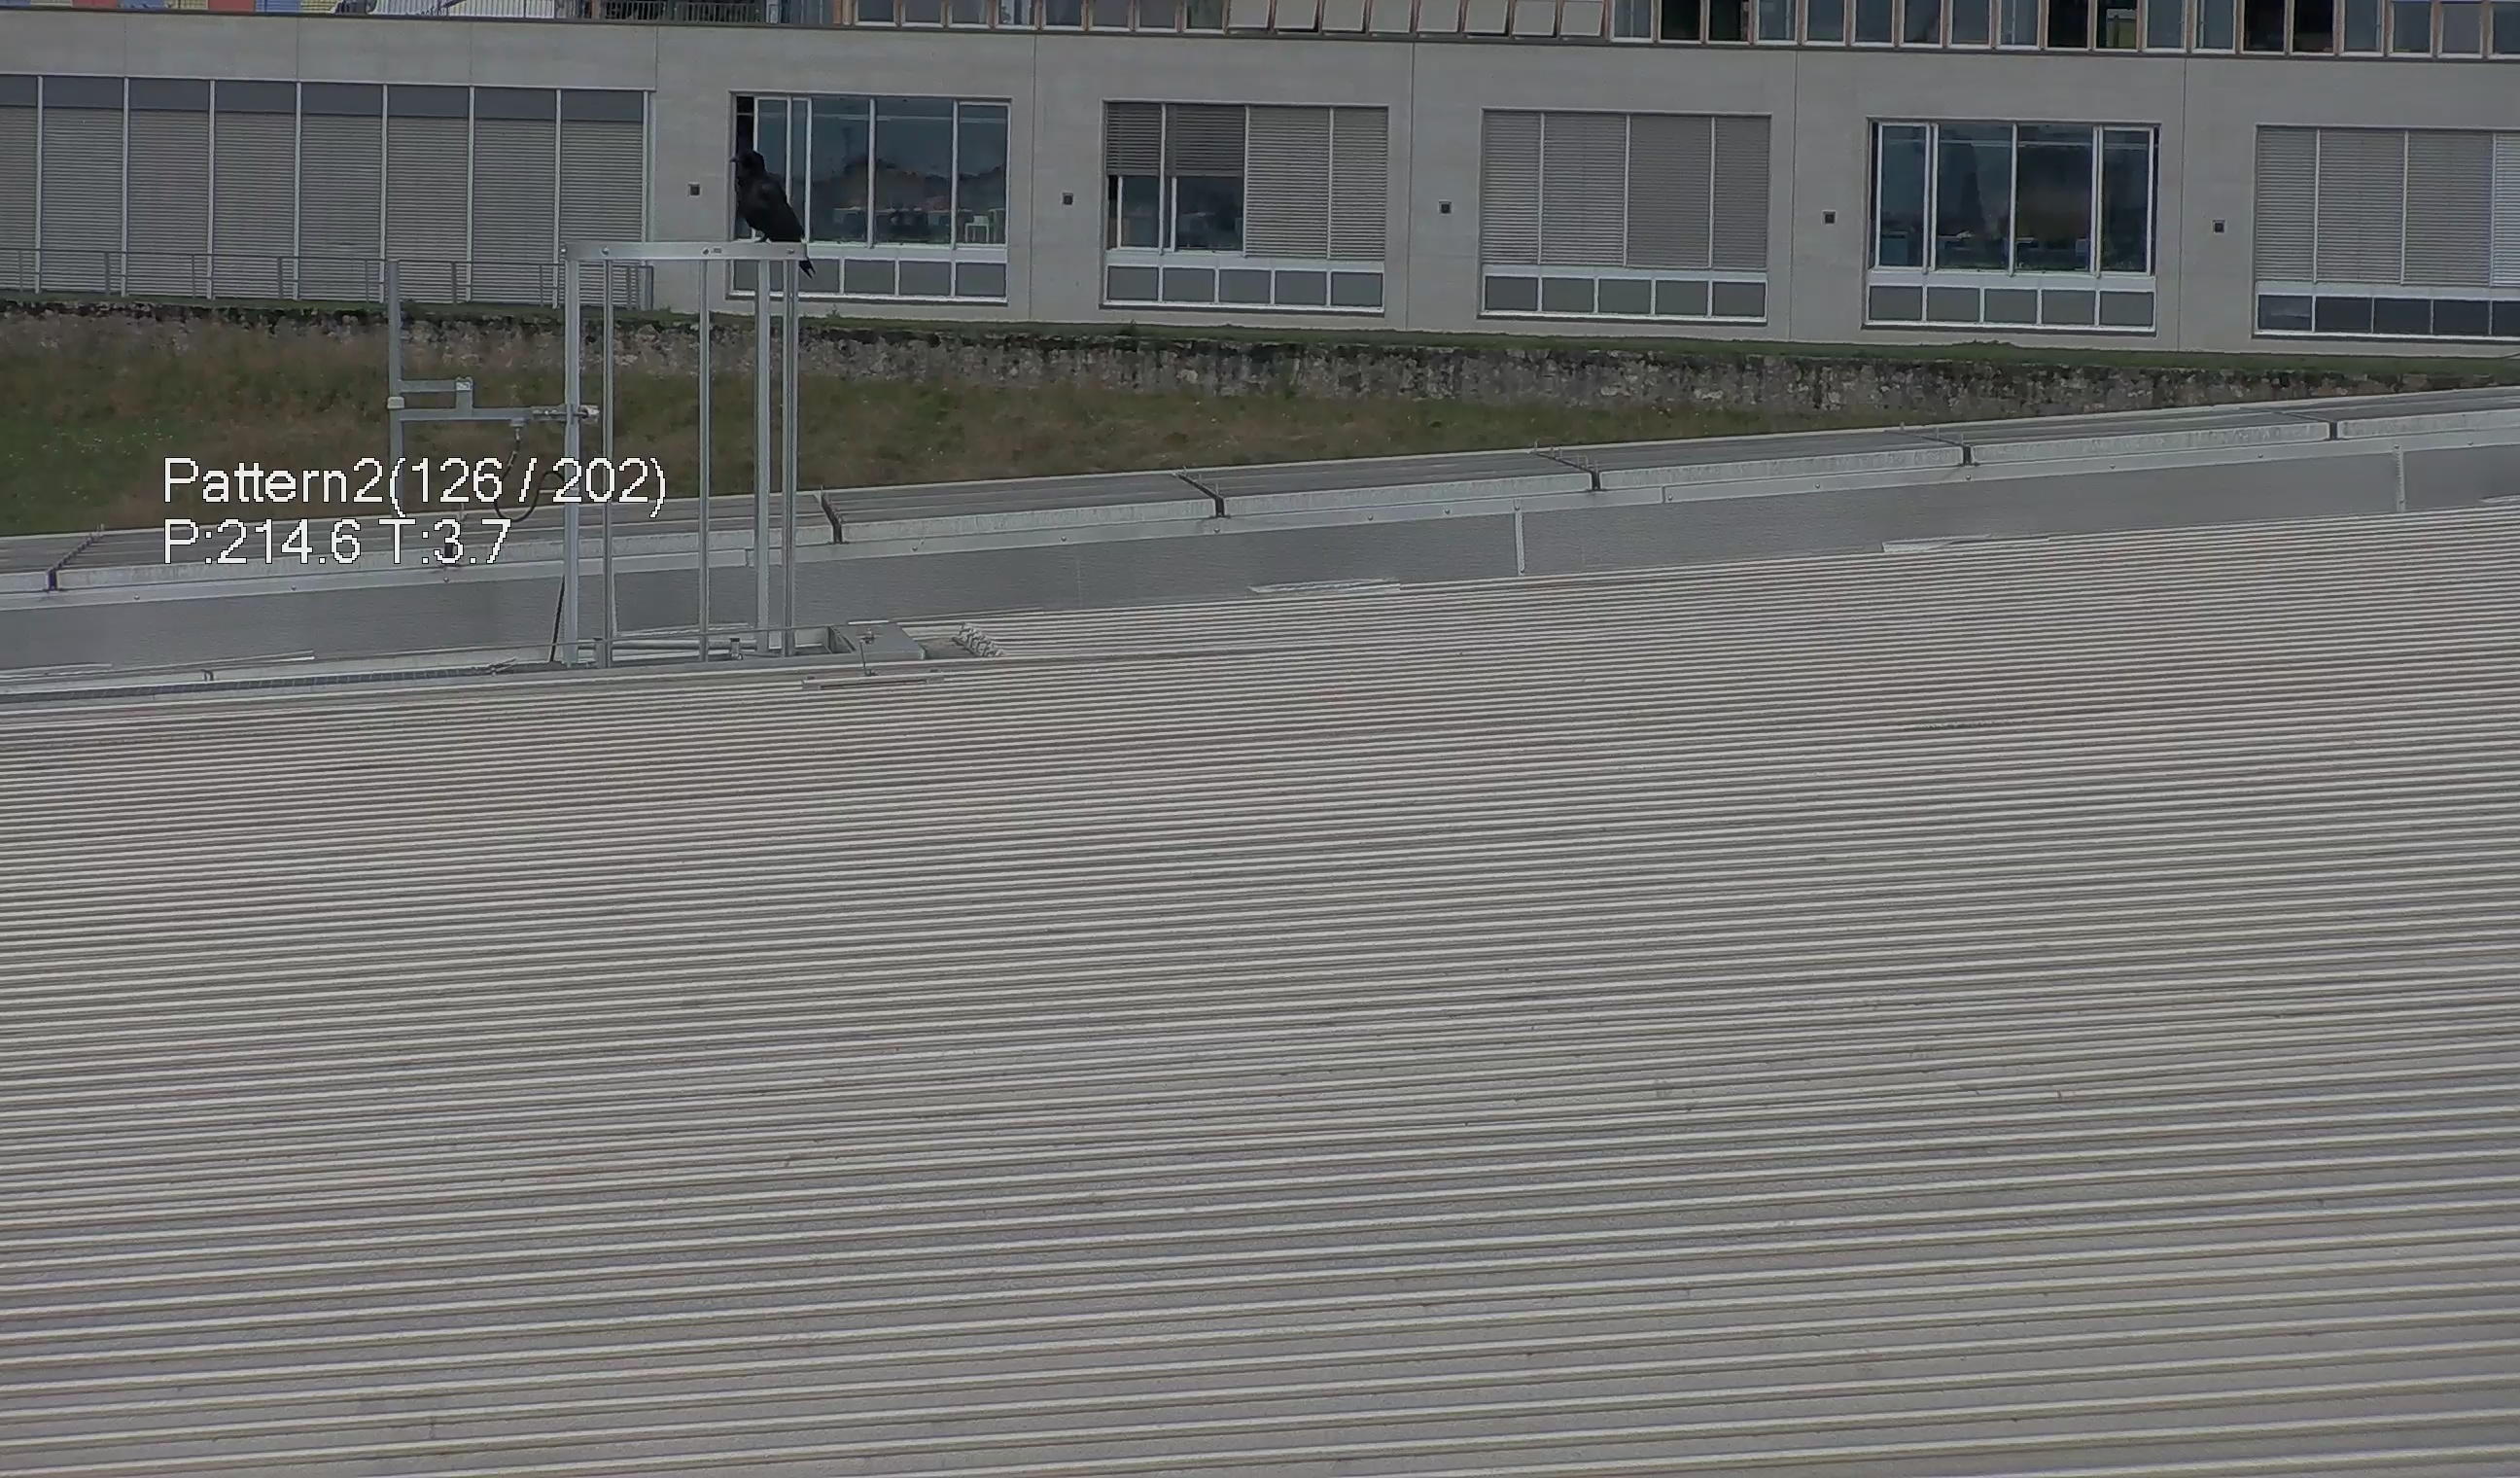Pigeon: (714, 139, 804, 248)
